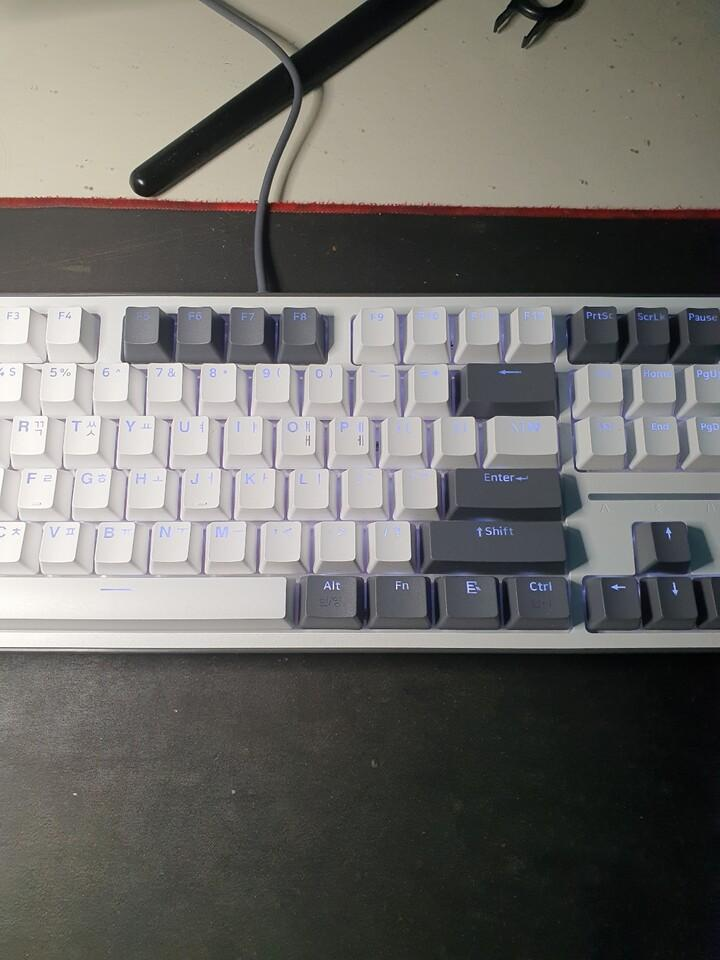keyboard: (0, 290, 719, 654)
